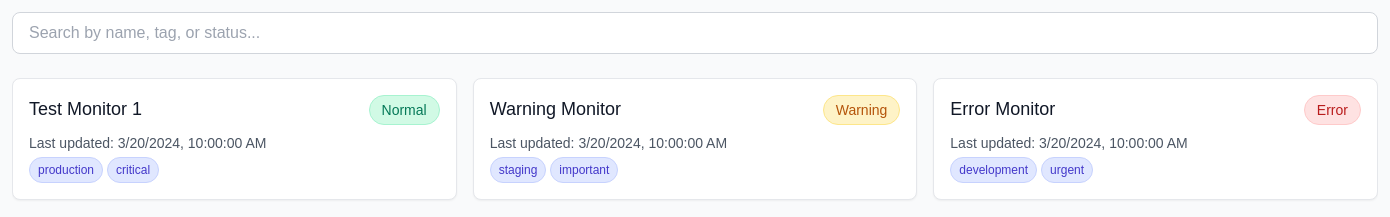
it: MonitorsGrid › shows no monitors when search has no matches
This screenshot has width=1390, height=217.
Type "nonexistent" into the field with test id "search-input" at (695, 33), box [12,12,1378,54]
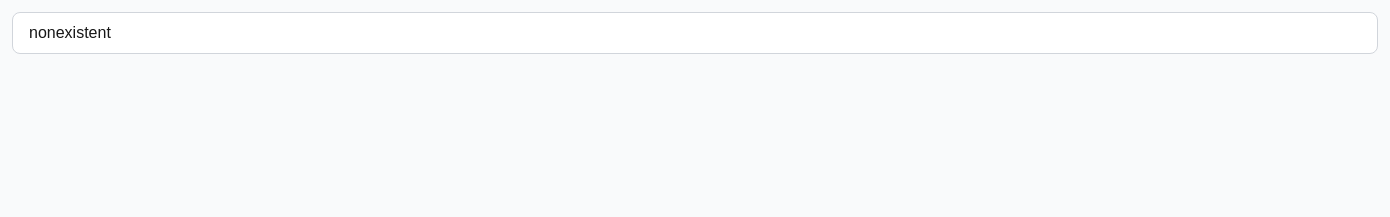
Expected: no links with test id "monitor-card" are shown
